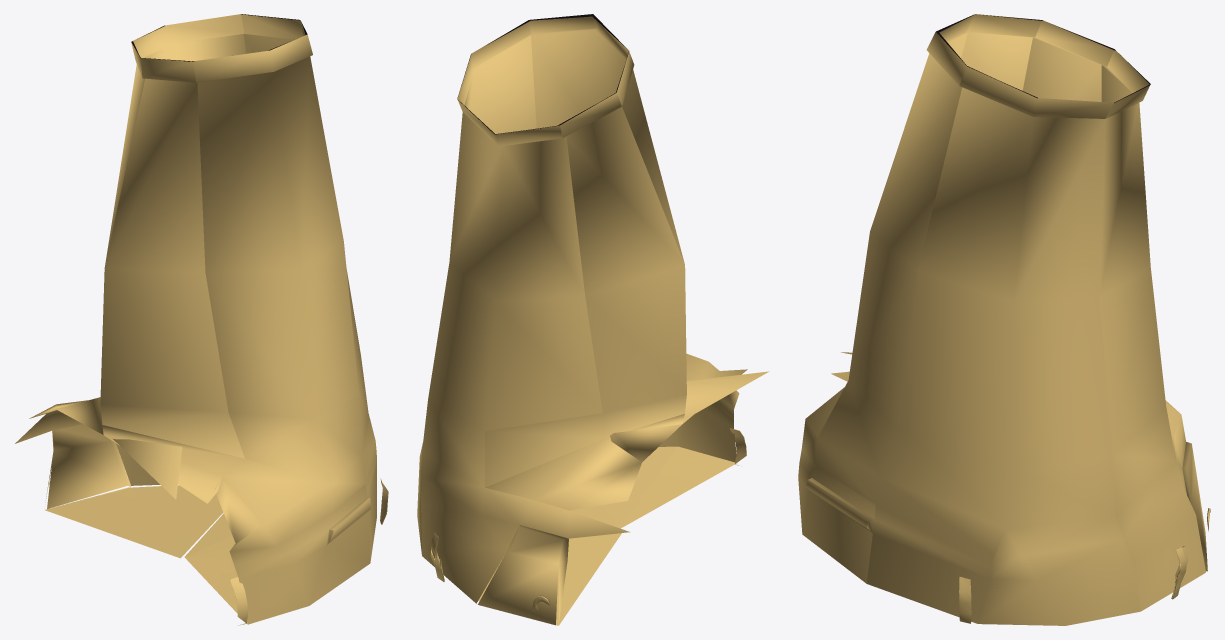
File: right_up_leg.glb
3 views of the same model, side by side, from view 1: azimuth 30°, elevation 25°; view 2: azimuth 150°, elevation 25°; view 3: azimuth 270°, elevation 25° (orthographic). The views are drawn at different scales.
Parts seen in each view (by area): view 1: shorts-yellow_RIGHT_UP_LEG; view 2: shorts-yellow_RIGHT_UP_LEG; view 3: shorts-yellow_RIGHT_UP_LEG.
Part boxes in pixels (x1=…): shorts-yellow_RIGHT_UP_LEG: x1=15, y1=14, x2=388, y2=625; shorts-yellow_RIGHT_UP_LEG: x1=417, y1=14, x2=769, y2=625; shorts-yellow_RIGHT_UP_LEG: x1=798, y1=14, x2=1210, y2=625.
Size of the model in its own units: 0.27 by 0.484 by 0.3307.
Materials: 1 (1 with a texture image).
